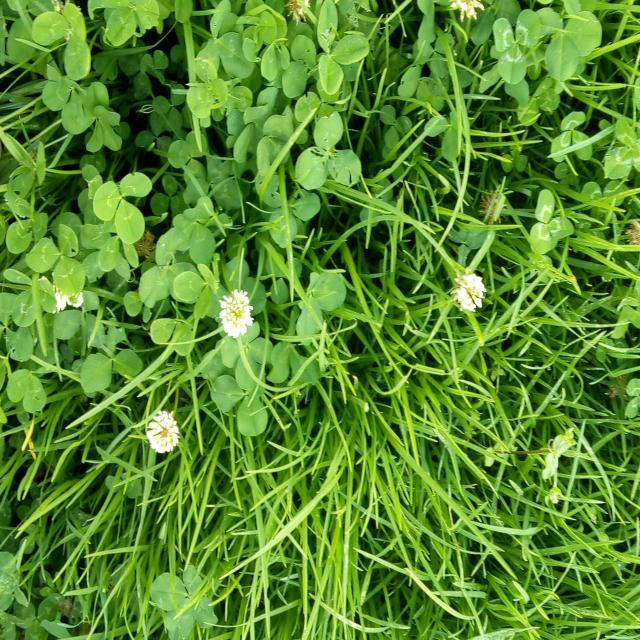Four Leaf Clover: (219, 319, 275, 391)
